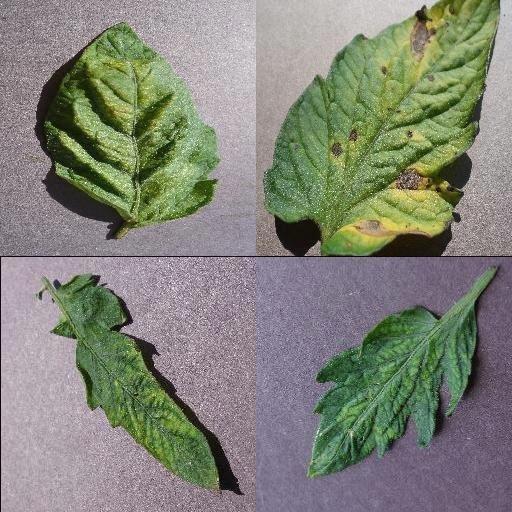Early Blight: (266, 0, 500, 256)
Mosaic Virus: (50, 272, 223, 499), (303, 302, 477, 480)
Spider Mites: (44, 20, 220, 226)
